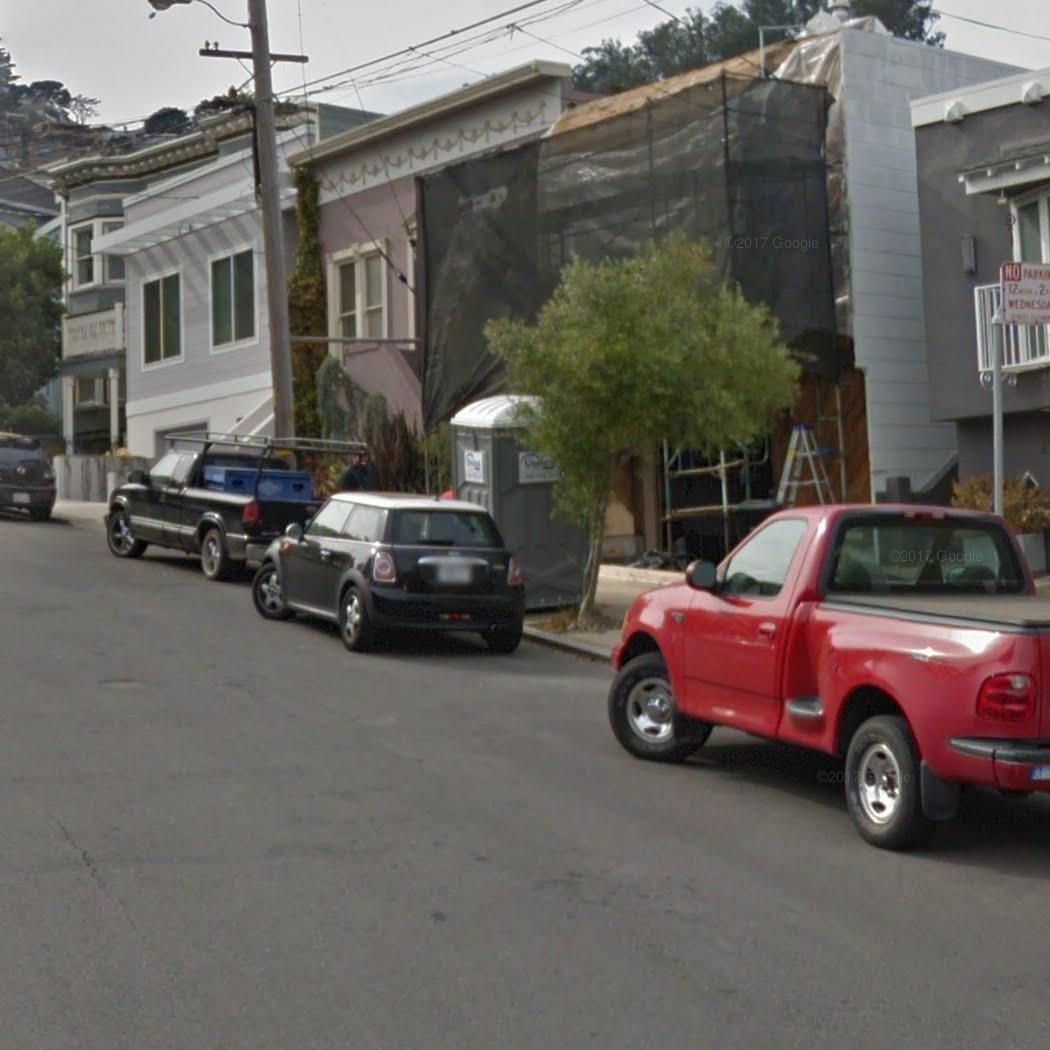No Parking: (992, 257, 1049, 331)
